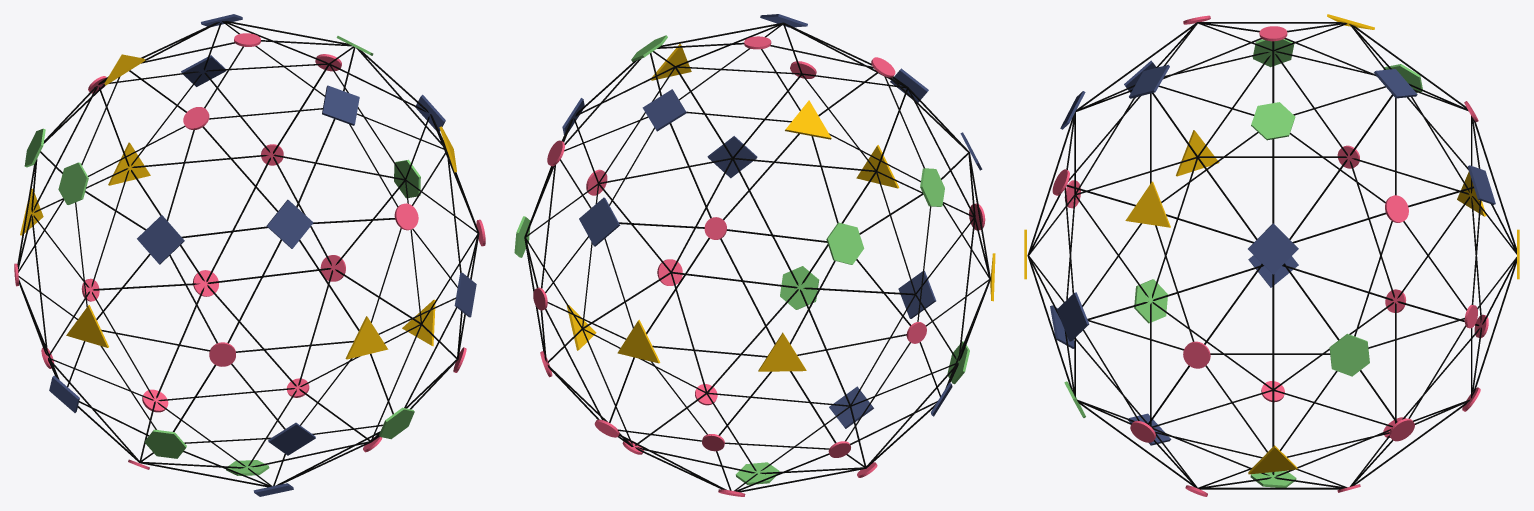
3 renders of one model, left to right at view 1: azimuth 30°, elevation 25°; view 2: azimuth 150°, elevation 25°; view 3: azimuth 270°, elevation 25°, orthographic. The views are drawn at different scales.
Visible parts, largest first — view 1: wireisosphereV4.001; view 2: wireisosphereV4.001; view 3: wireisosphereV4.001.
Part boxes in pixels (x1,y1,x2,y2): wireisosphereV4.001: [14, 14, 485, 496]; wireisosphereV4.001: [514, 14, 995, 496]; wireisosphereV4.001: [1024, 14, 1519, 496].
Bounding box in the file's own units: 3.43 × 3.46 × 3.46.
